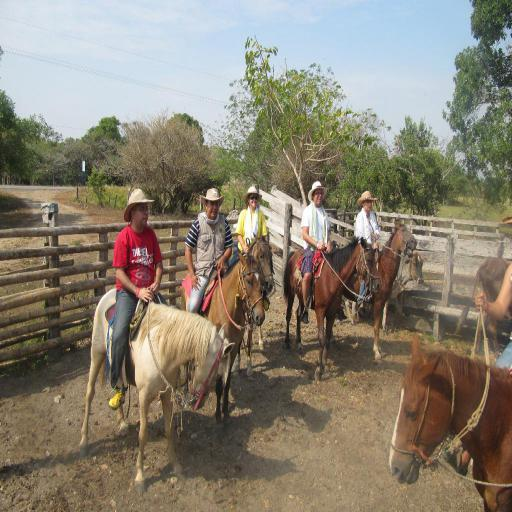horse: (79, 286, 235, 497), (390, 334, 512, 512), (180, 250, 264, 423), (282, 237, 380, 382), (330, 220, 416, 360), (233, 228, 275, 384)
